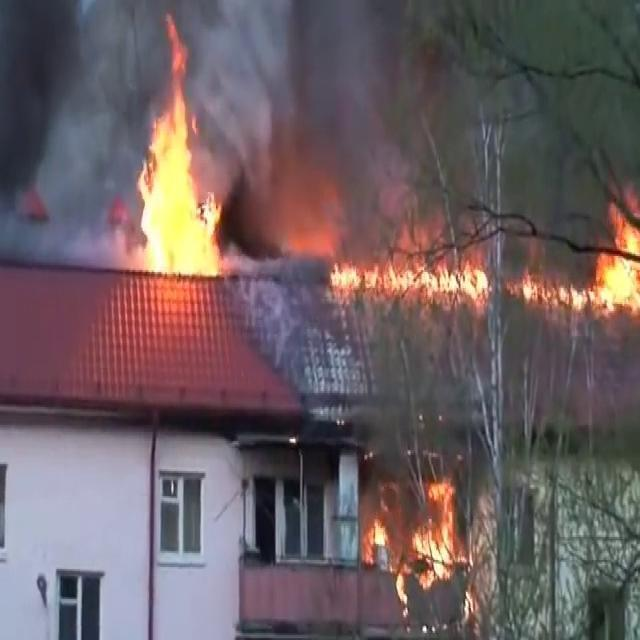Fire: (126, 69, 226, 292), (366, 462, 474, 612), (323, 238, 488, 308), (565, 202, 640, 322)
Smoke: (200, 2, 470, 236), (0, 0, 148, 252)
